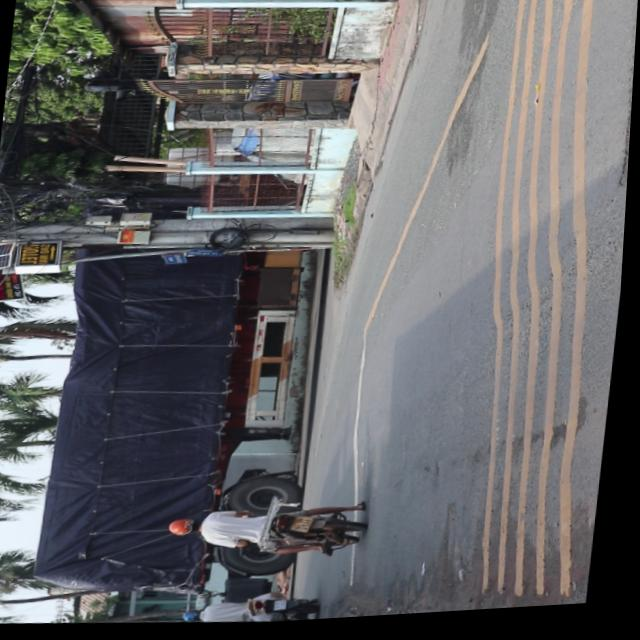helmet: (175, 517, 207, 538)
licenseplate: (171, 494, 377, 567)
nohelmet: (296, 518, 322, 537)
